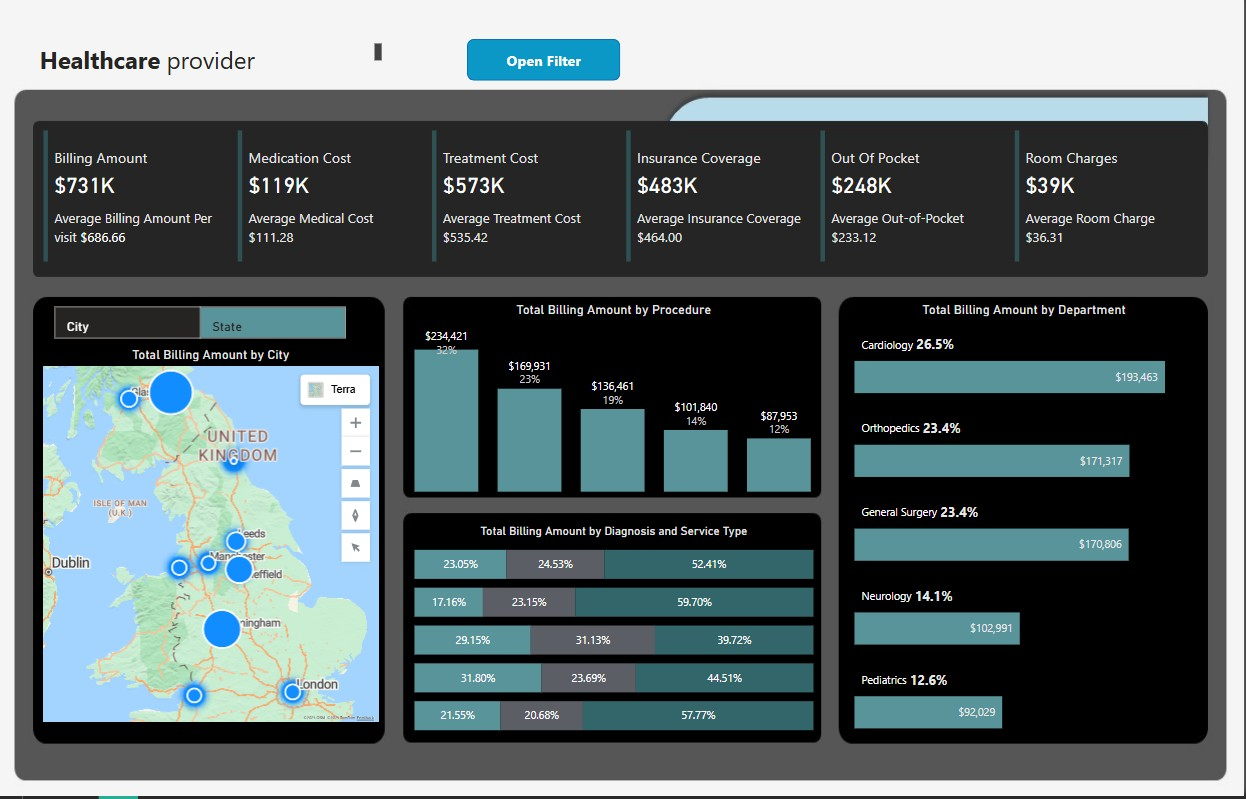

The dashboard page shown, as its layout file describes it:
{"tool":"powerbi","page":{"name":"Page 1","canvas":[1400,900],"ordinal":0},"visuals":[{"type":"cardVisual","fields":{"Data":["_measures.Total Billing Amount","_measures.Total Medication Cost","_measures.Total Treatment Cost","_measures.Total Insurance covered","_measures.Out-of-Pocket","_measures.Total Room Charges"]},"box":[46.7,147.8,1314.4,157.8],"z":0},{"type":"azureMap","fields":{"Category":["cities.City"],"Size":["_measures.Total Billing Amount"]},"box":[51.1,396.7,376.7,421.1],"z":1000},{"type":"advancedSlicerVisual","fields":{"Values":["Patient Location Switch.Patient Location Switch"]},"box":[60,345.6,338.9,46.7],"z":2000},{"type":"clusteredColumnChart","fields":{"Category":["procedures.Procedure"],"Y":["_measures.Total Billing Amount"]},"box":[463.3,345.6,457.8,218.9],"z":3000},{"type":"hundredPercentStackedBarChart","fields":{"Y":["_measures.Total Billing Amount"],"Category":["diagnoses.Diagnosis"],"Series":["visits.Service Type"]},"box":[463.3,594.4,457.8,237.8],"z":4000},{"type":"clusteredBarChart","title":"Total Billing  Amount by Department","fields":{"Category":["departments.Department"],"Y":["_measures.Blank Measure","_measures.Total Billing Amount"]},"box":[957.8,345.6,391.1,486.7],"z":5000},{"type":"textbox","box":[42.2,50,394.4,46.7],"z":6000},{"type":"shape","title":"open","box":[527.8,50,172.2,46.7],"z":11000}]}

Visuals, with their boxes in screenshot pixels (x1, y1, x2, y2), scaled from the page's 1400x900 canvas onto the 1246x799 screenshot:
cardVisual - _measures.Total Billing Amount x _measures.Total Medication Cost: [left=42, top=131, right=1211, bottom=271]
azureMap - cities.City x _measures.Total Billing Amount: [left=45, top=352, right=381, bottom=726]
advancedSlicerVisual - Patient Location Switch.Patient Location Switch: [left=53, top=307, right=355, bottom=348]
clusteredColumnChart - procedures.Procedure x _measures.Total Billing Amount: [left=412, top=307, right=820, bottom=501]
hundredPercentStackedBarChart - _measures.Total Billing Amount x diagnoses.Diagnosis: [left=412, top=528, right=820, bottom=739]
"Total Billing  Amount by Department" clusteredBarChart: [left=852, top=307, right=1201, bottom=739]
textbox: [left=38, top=44, right=389, bottom=86]
"open" shape: [left=470, top=44, right=623, bottom=86]
